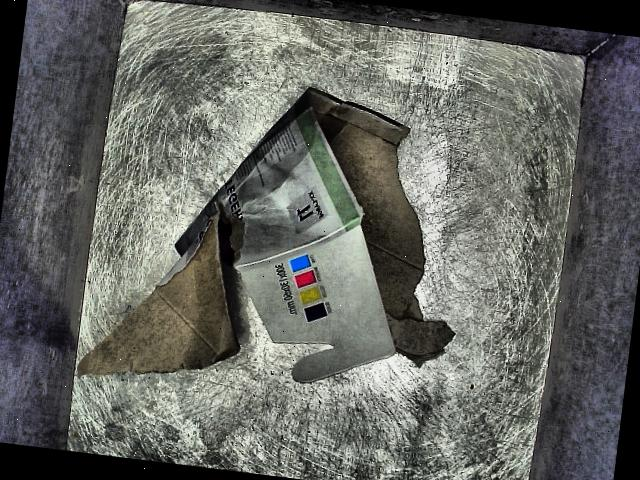Paper: (60, 58, 492, 454)
